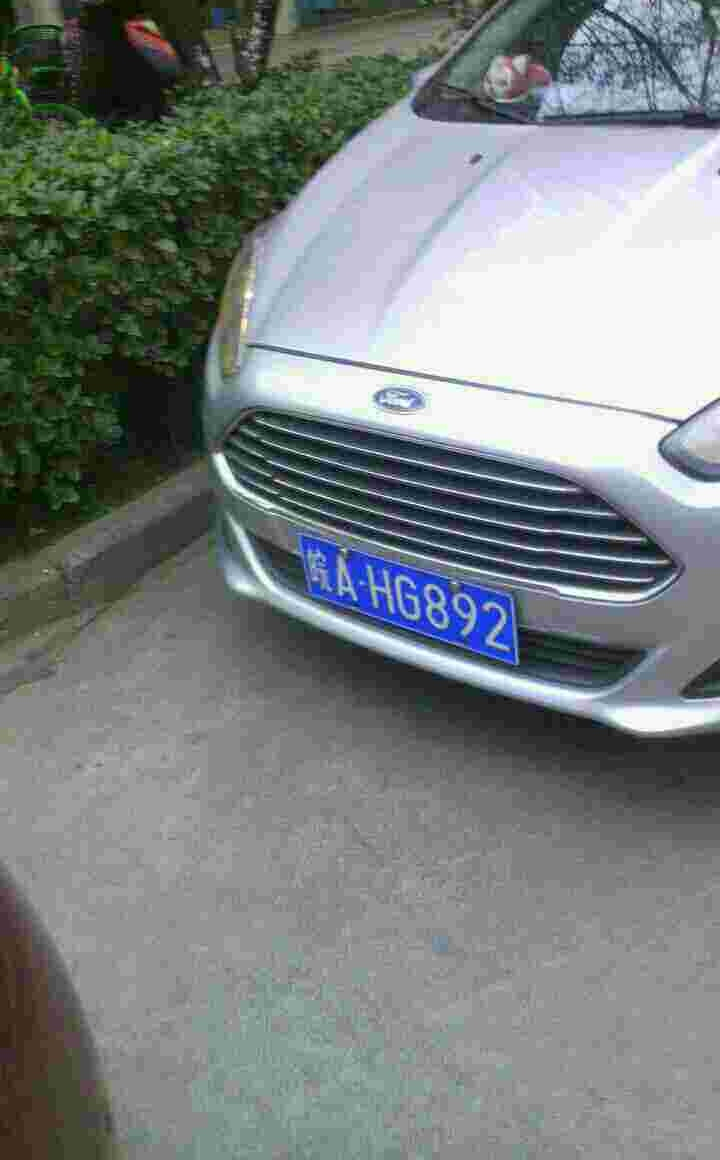license_plate: (291, 535, 524, 661)
